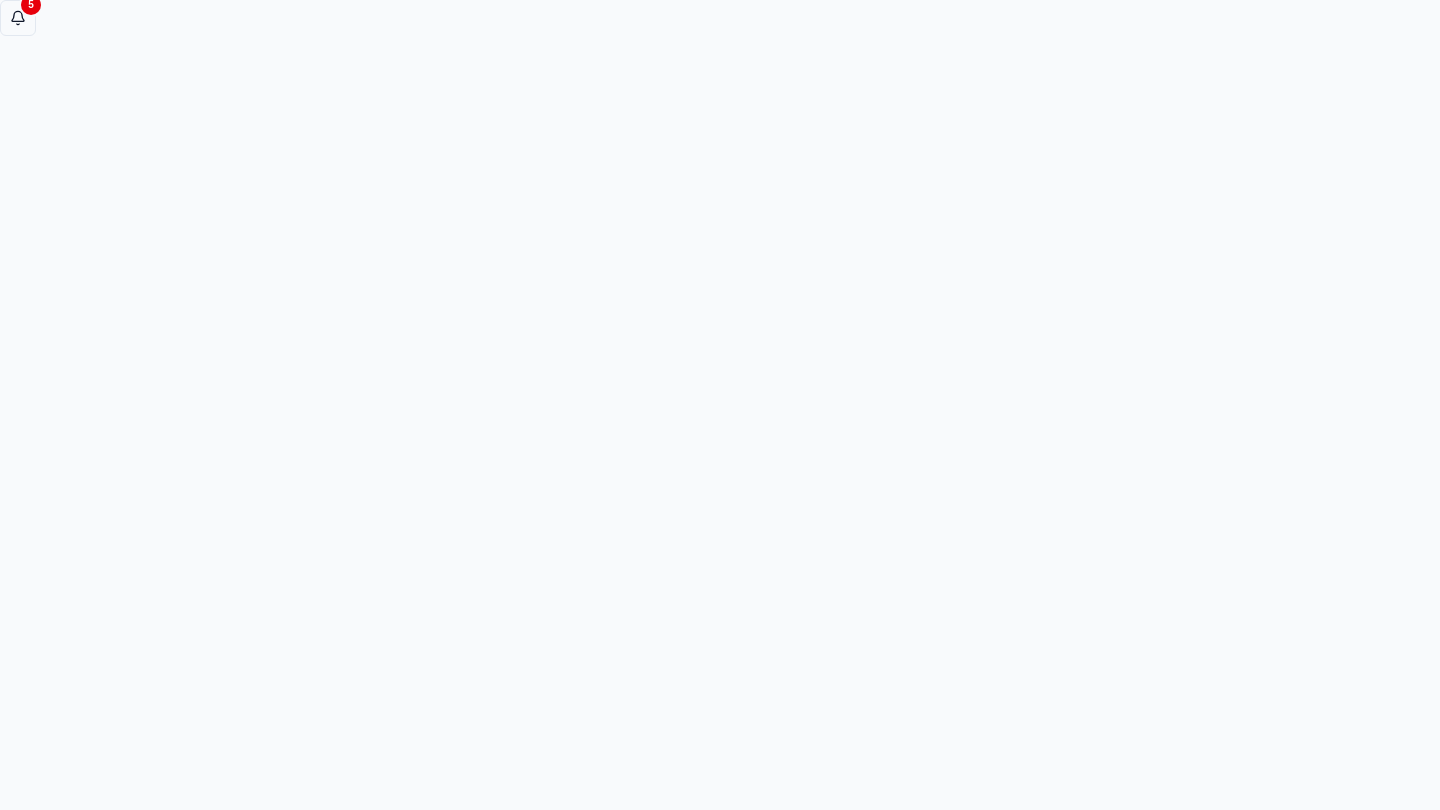
Scenario: shows live admin alerts, navigates to their section, and remembers read updates
Later steps or results of the test are not shown.
Expected: the text with test id "admin-notification-count" reads "5", x1=28 y1=0 x2=34 y2=10
Click the button with test id "admin-notification-bell" at (18, 18), box x1=0 y1=0 x2=36 y2=36
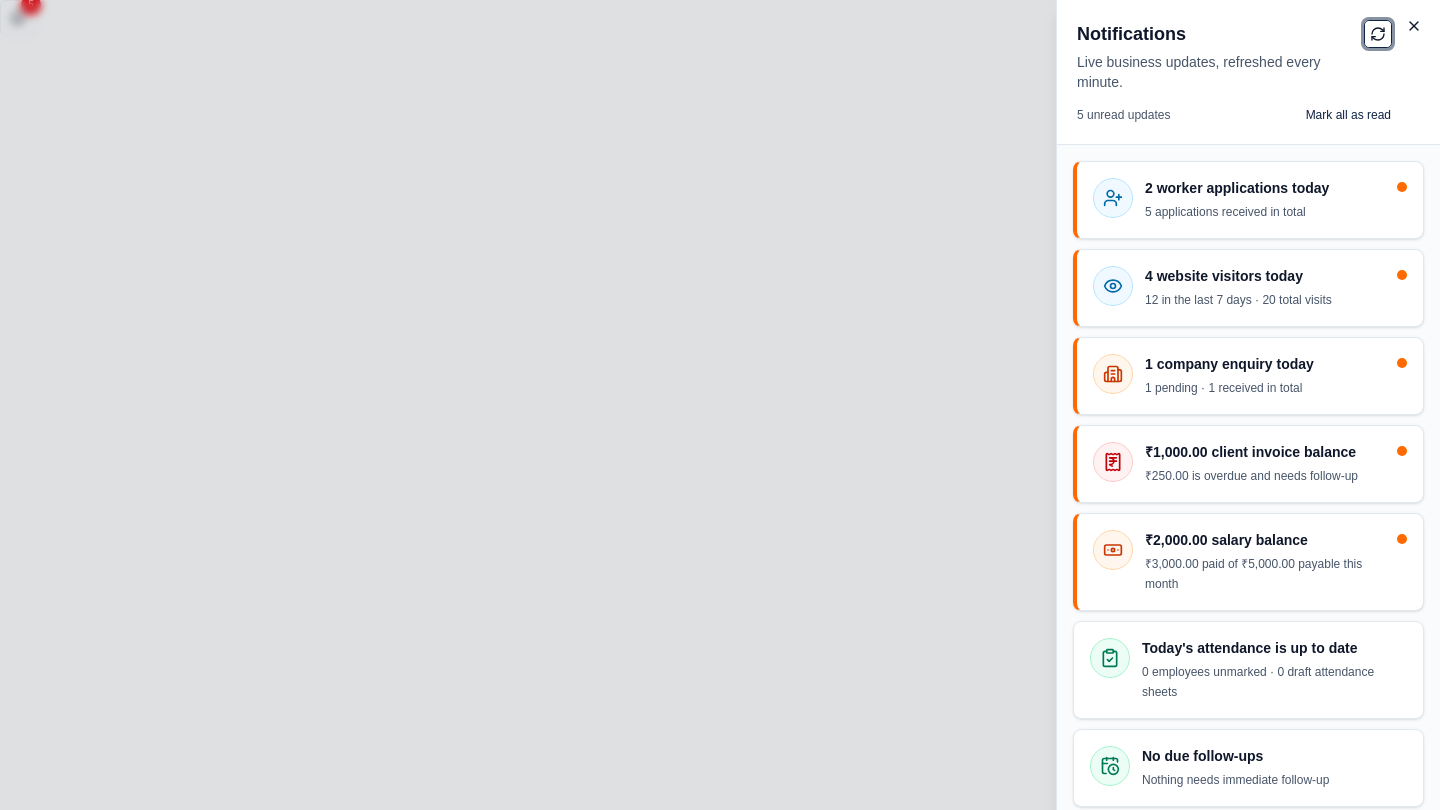
Expected: the dialog with test id "admin-notification-panel" shows "₹1,000.00 client invoice balance", x1=1073 y1=425 x2=1424 y2=503
Click the button with test id "admin-notification-applications" at (1113, 198), box x1=1073 y1=161 x2=1424 y2=239
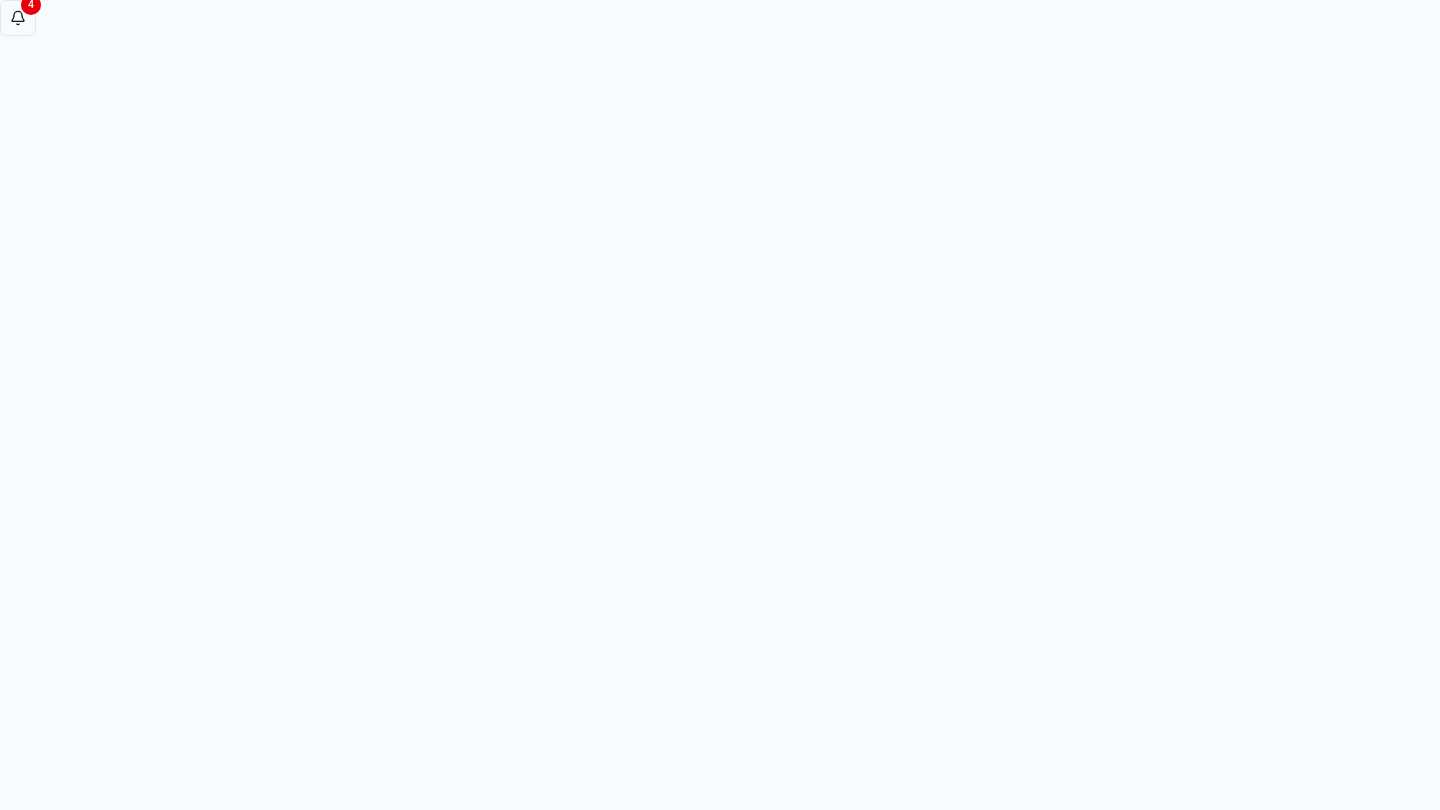
Expected: the text with test id "admin-notification-count" reads "4", x1=28 y1=0 x2=34 y2=10
